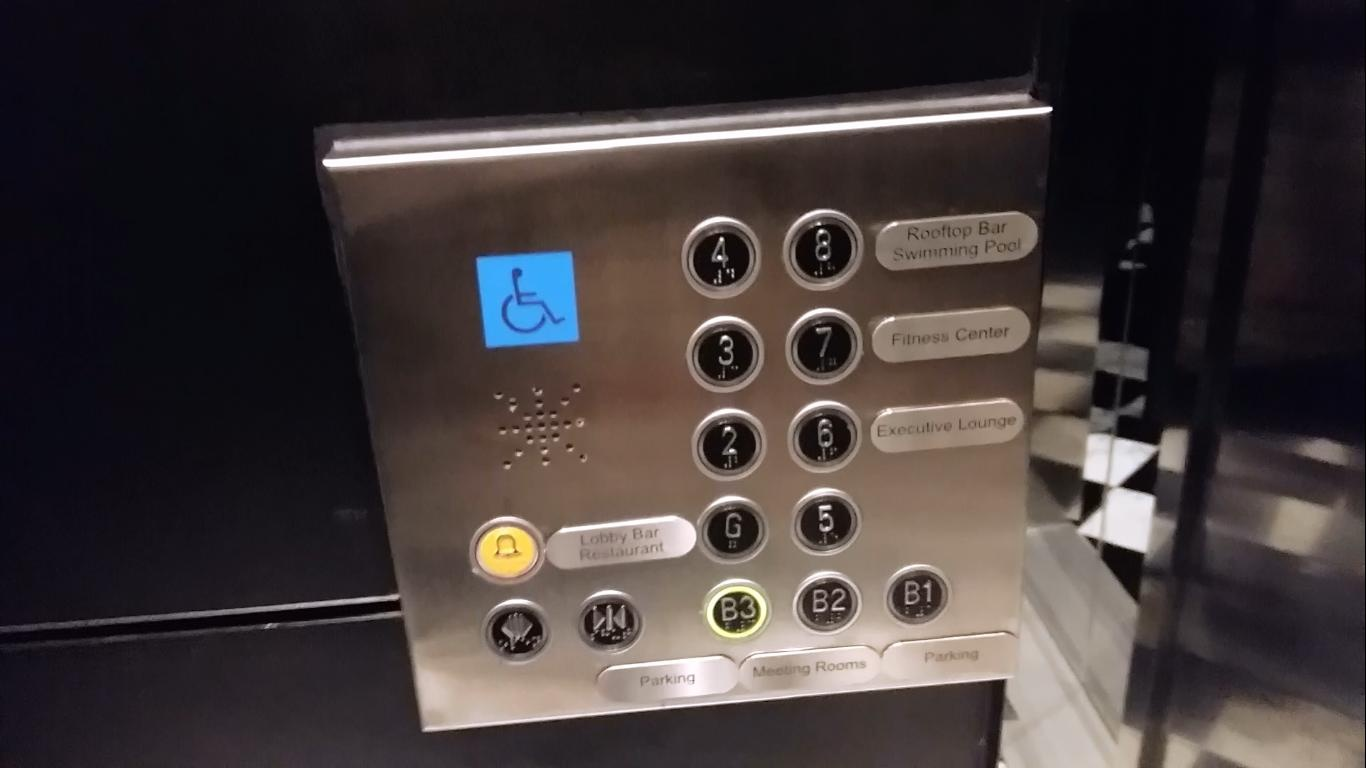2: (691, 408, 770, 483)
3: (684, 315, 764, 394)
4: (682, 217, 763, 303)
5: (788, 488, 863, 559)
6: (785, 402, 863, 476)
7: (784, 308, 864, 387)
8: (779, 208, 864, 291)
B1: (882, 564, 954, 629)
B2: (791, 571, 863, 635)
B3: (702, 580, 772, 641)
CH: (475, 250, 579, 352)
G: (694, 493, 770, 564)
alarm: (467, 517, 543, 587)
close: (576, 590, 644, 653)
open: (479, 599, 552, 667)
